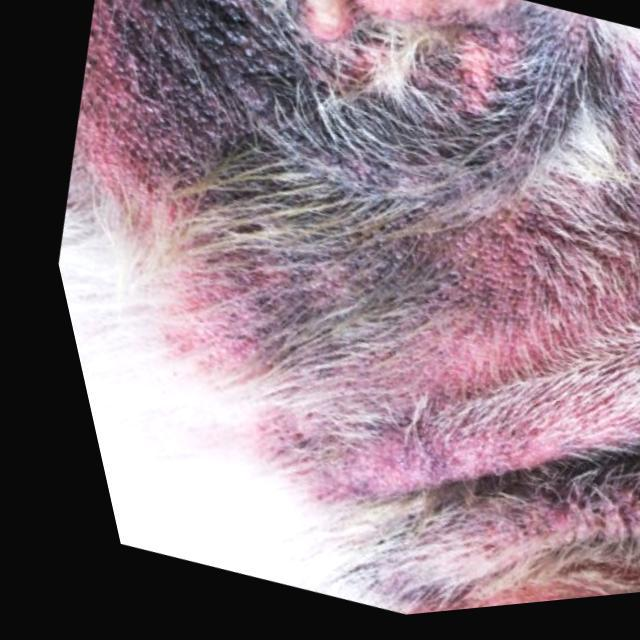nhiem nam (cho): (91, 0, 640, 615)
